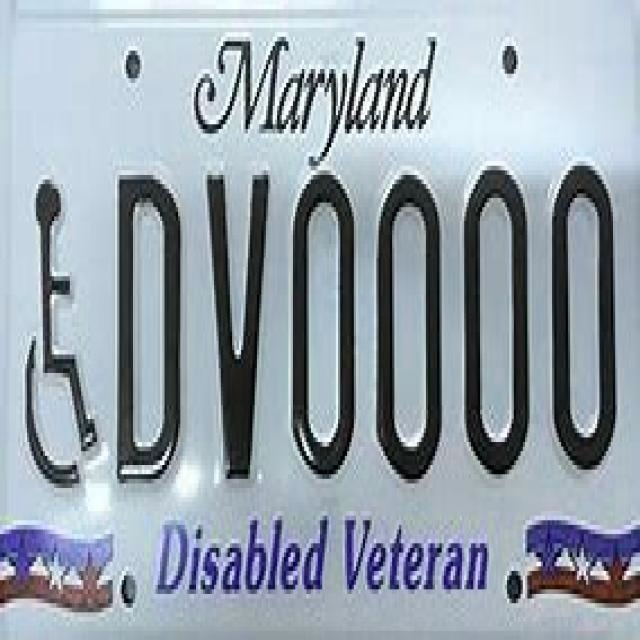ISA: (24, 179, 103, 490)
